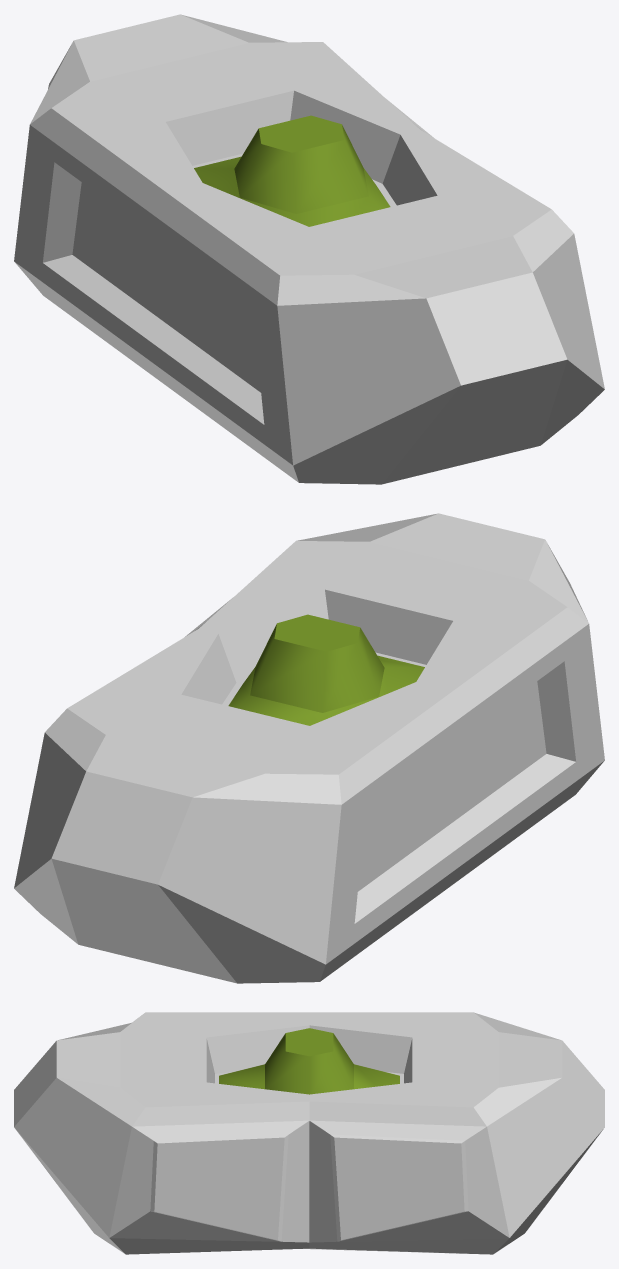
File: Frog_Shoulders.fbx
The picture shows the model from 3 angles, top to bottom: view 1: azimuth 30°, elevation 25°; view 2: azimuth 150°, elevation 25°; view 3: azimuth 270°, elevation 25°; orthographic projection. The views are drawn at different scales.
Parts seen in each view (by area): view 1: Cube.107; view 2: Cube.107; view 3: Cube.107.
Boxes of the visible parts, bbox=[...] form: Cube.107: bbox=[14, 14, 604, 484]; Cube.107: bbox=[14, 513, 604, 983]; Cube.107: bbox=[14, 1012, 604, 1254].
Bounding box in the file's own units: 70.59 × 48.24 × 153.
